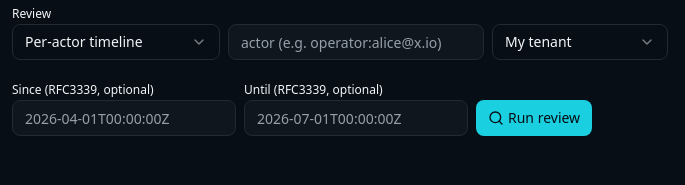
AuditReviewPanel — enterprise access-review UI (ADR 0022) › surfaces a validation error when the actor is empty
Click the button with test id "audit-review-run" at (534, 118), box [476, 100, 592, 136]
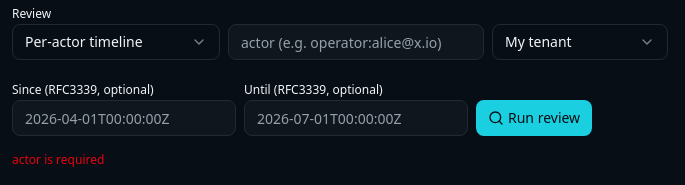
Result: the text with test id "audit-review-error" reads "actor is required" at [12, 151, 104, 168]
